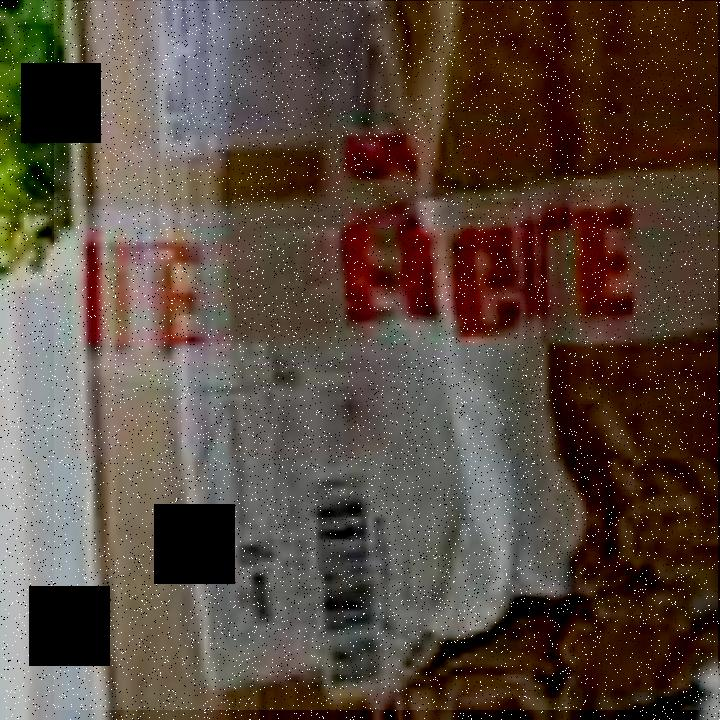box: (54, 1, 718, 712)
